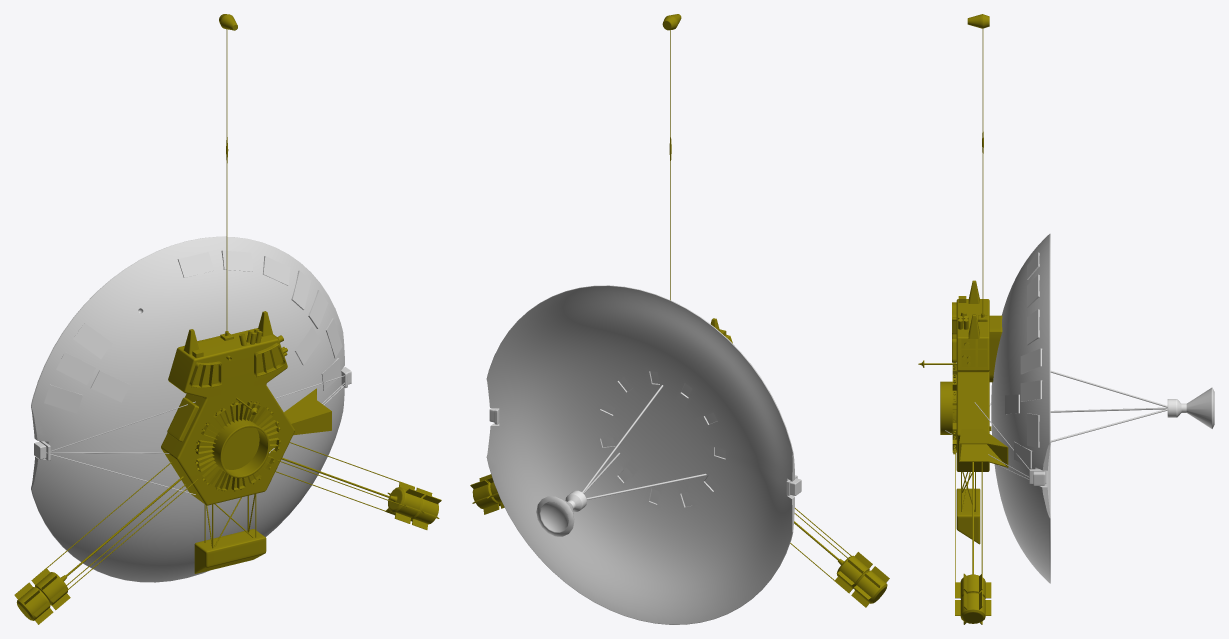
File: Pioneer.obj
The picture shows the model from 3 angles, left to right: view 1: azimuth 30°, elevation 25°; view 2: azimuth 150°, elevation 25°; view 3: azimuth 270°, elevation 25°; orthographic projection. The views are drawn at different scales.
Bounding box in the file's own units: 123 × 166 × 80.26.
